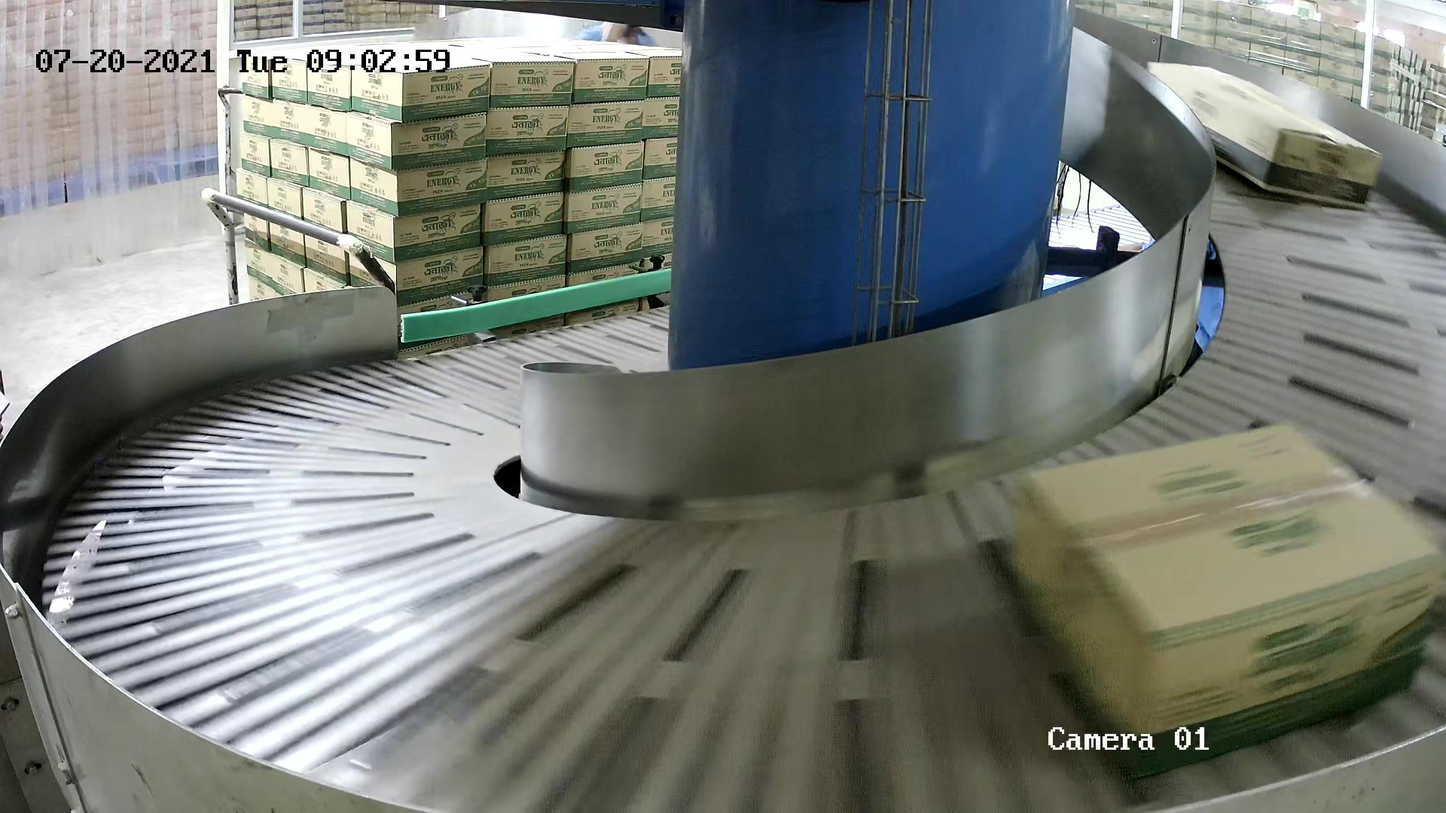Box: (1006, 417, 1446, 783), (1141, 59, 1386, 213)
